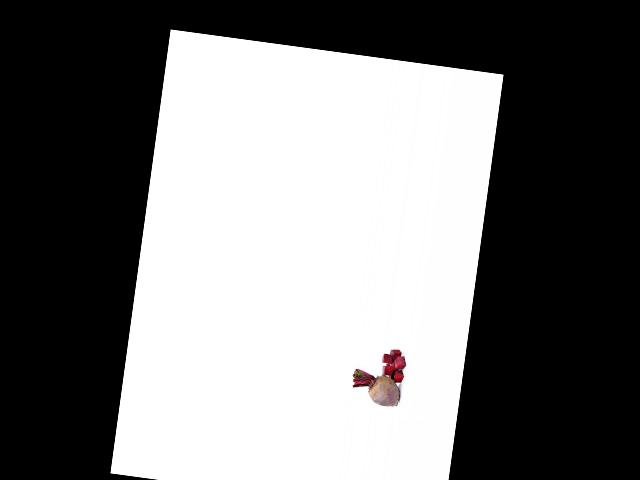beet: (350, 368, 403, 407)
